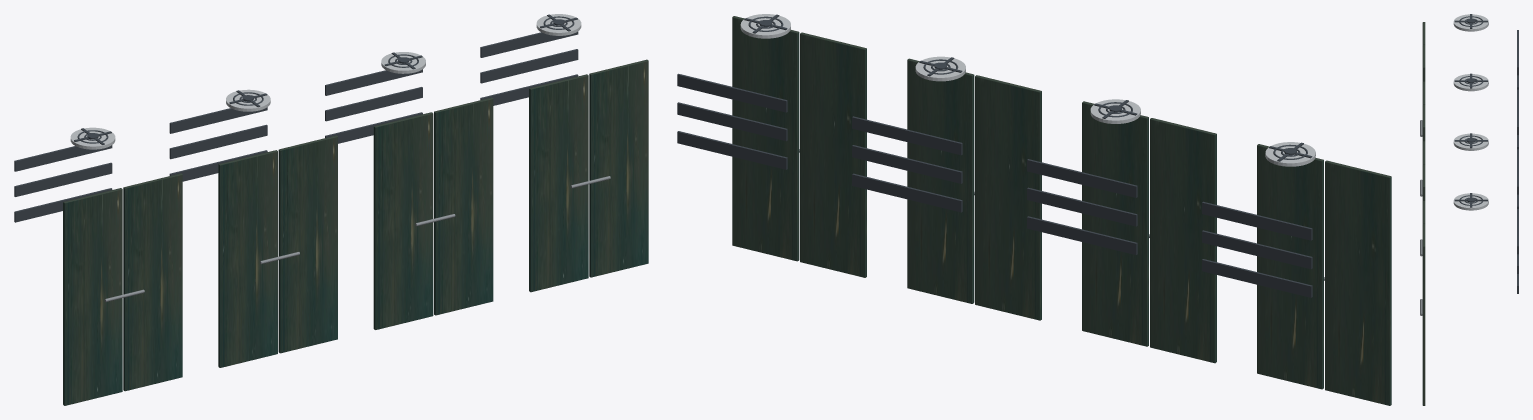
The model's file is st-doors.glb.
3 views of the same model, side by side, from view 1: azimuth 30°, elevation 25°; view 2: azimuth 150°, elevation 25°; view 3: azimuth 270°, elevation 25° (orthographic). The views are drawn at different scales.
Visible parts, largest first — view 1: Battery3_Door_L, PCS_Door_L, Battery1_Door_L, Battery2_Door_L, Battery3_Door_R, Battery1_Door_R, PCS_Door_R, Battery2_Door_R, Battery1_Louver_2, Battery2_Louver_2, PCS_Louver_2, Battery3_Louver_2 (+12 smaller); view 2: Battery1_Door_L, PCS_Door_L, Battery3_Door_L, Battery2_Door_L, PCS_Door_R, Battery3_Door_R, Battery1_Door_R, Battery2_Door_R, Battery1_Louver_2, Battery2_Louver_3, PCS_Louver_1, Battery3_Louver_1 (+12 smaller); view 3: PCS_Door_R, PCS_FanDisc, Battery1_FanDisc, Battery2_FanDisc, Battery3_FanDisc, Battery2_Door_R, Battery1_Door_R, Battery3_Door_R.
Boxes of the visible parts, x1,y1,x2,y2 form: Battery3_Door_L: (373, 112, 433, 329); PCS_Door_L: (529, 74, 588, 292); Battery1_Door_L: (63, 188, 122, 405); Battery2_Door_L: (218, 150, 277, 367); Battery3_Door_R: (434, 97, 493, 315); Battery1_Door_R: (123, 173, 182, 391); PCS_Door_R: (589, 59, 648, 277); Battery2_Door_R: (278, 135, 337, 353); Battery1_Louver_2: (14, 162, 112, 196); Battery2_Louver_2: (169, 124, 267, 159); PCS_Louver_2: (480, 49, 578, 83); Battery3_Louver_2: (325, 87, 422, 121); Battery1_Door_L: (1325, 160, 1391, 405); PCS_Door_L: (800, 32, 866, 277); Battery3_Door_L: (975, 75, 1041, 320); Battery2_Door_L: (1150, 118, 1216, 363); PCS_Door_R: (732, 16, 799, 261); Battery3_Door_R: (907, 58, 974, 303); Battery1_Door_R: (1257, 144, 1323, 389); Battery2_Door_R: (1082, 101, 1148, 346); Battery1_Louver_2: (1202, 230, 1312, 269); Battery2_Louver_3: (1027, 159, 1137, 197); PCS_Louver_1: (677, 131, 787, 169); Battery3_Louver_1: (852, 173, 962, 212); PCS_Door_R: (1422, 224, 1425, 405); PCS_FanDisc: (1453, 193, 1488, 210); Battery1_FanDisc: (1453, 14, 1488, 31); Battery2_FanDisc: (1453, 74, 1488, 91); Battery3_FanDisc: (1453, 133, 1488, 150); Battery2_Door_R: (1422, 104, 1425, 141); Battery1_Door_R: (1422, 45, 1425, 81); Battery3_Door_R: (1422, 164, 1425, 200).
Bounding box in the file's own units: 6.02 × 2.3 × 1.12.
Materials: 5 (1 with a texture image).
